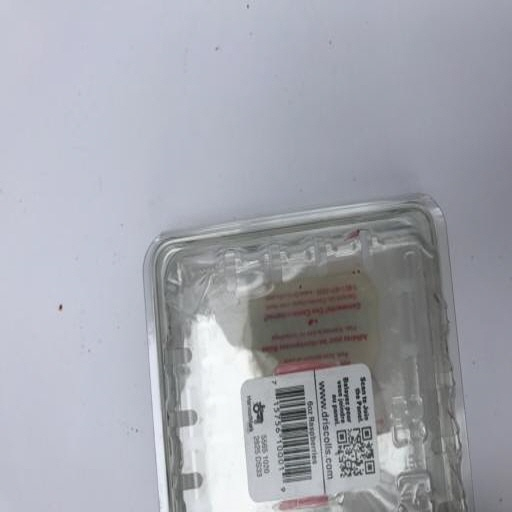Plastic_4: (139, 194, 475, 512)
